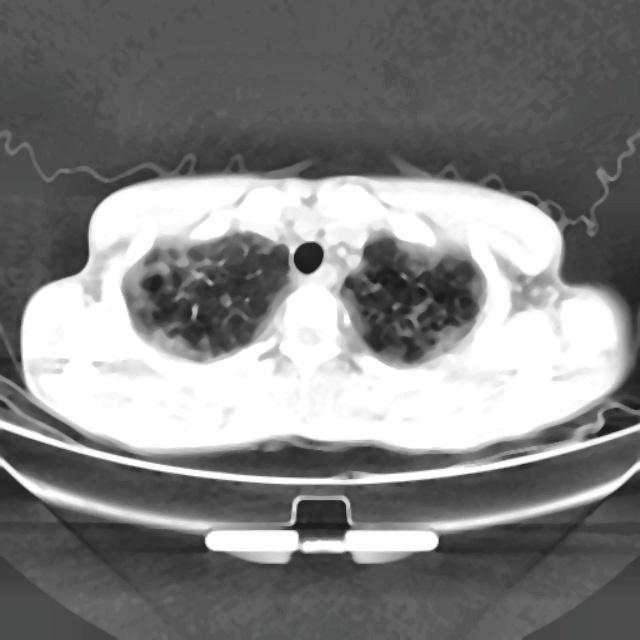covid: (18, 168, 633, 459)
